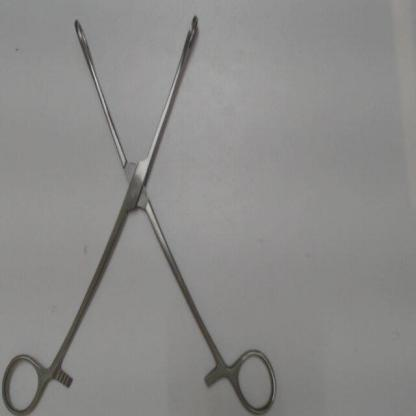Sponge Forceps: (2, 6, 283, 413)
